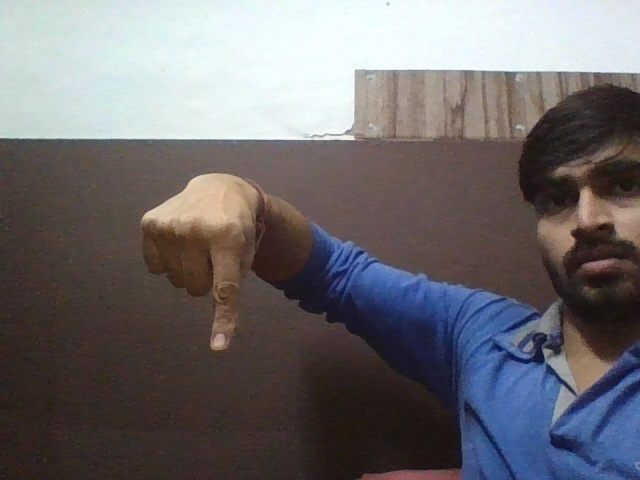Q: (135, 179, 282, 360)
